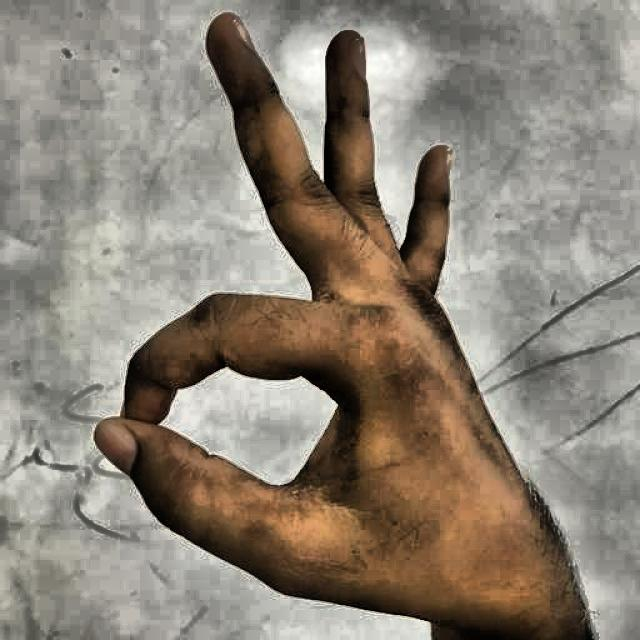Ca: (80, 7, 598, 638)
